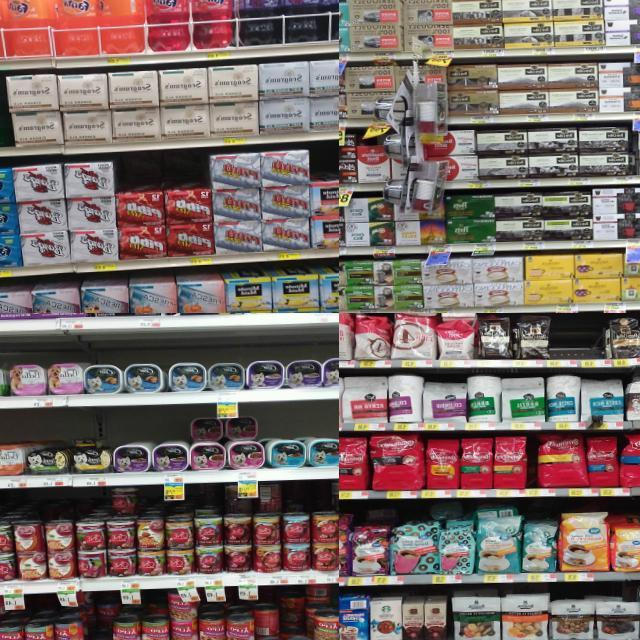empty: (550, 324, 606, 366)
